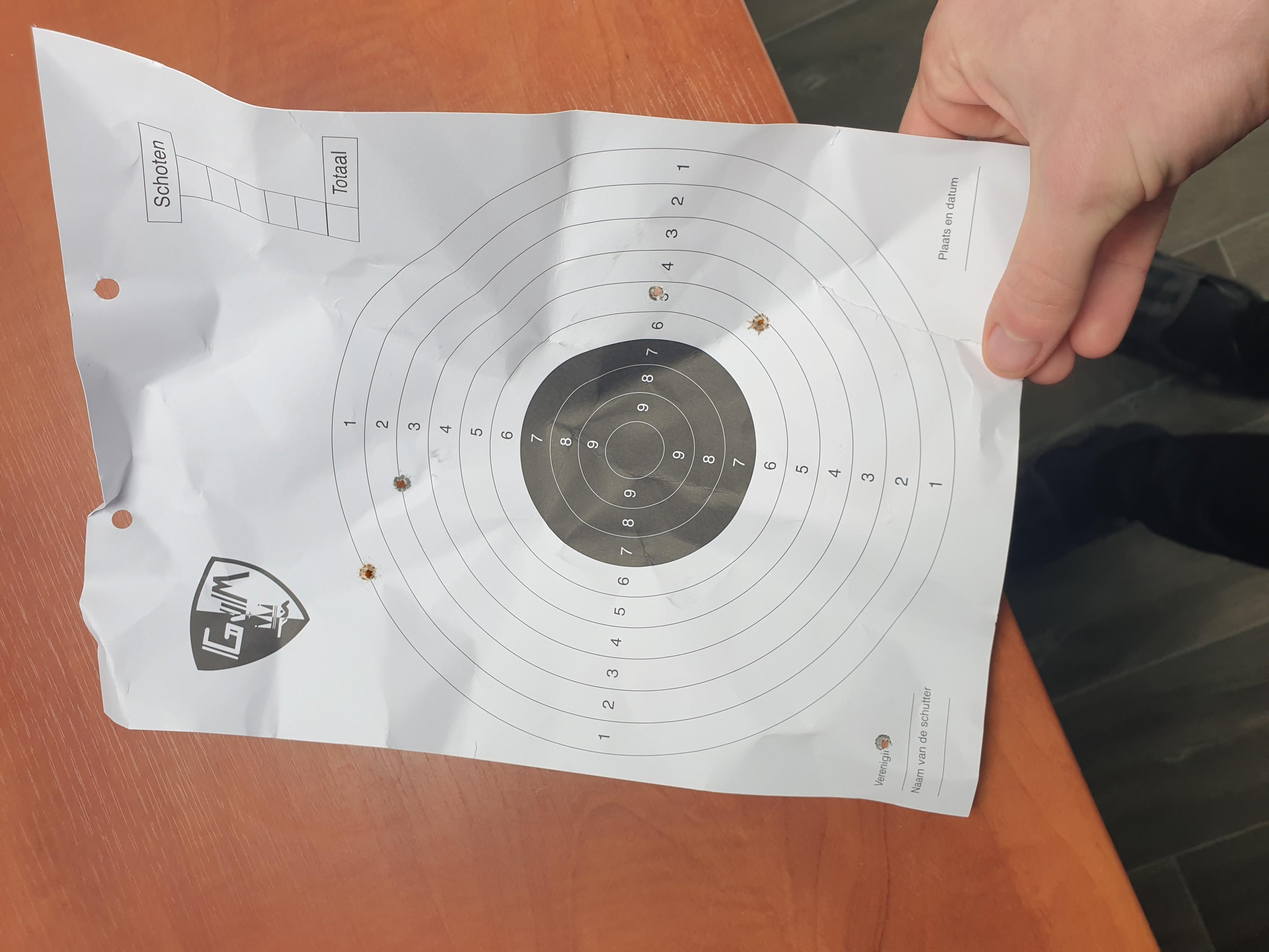hole: (746, 311, 770, 334), (391, 472, 413, 495), (644, 284, 666, 303), (873, 732, 893, 752), (358, 563, 378, 582)
